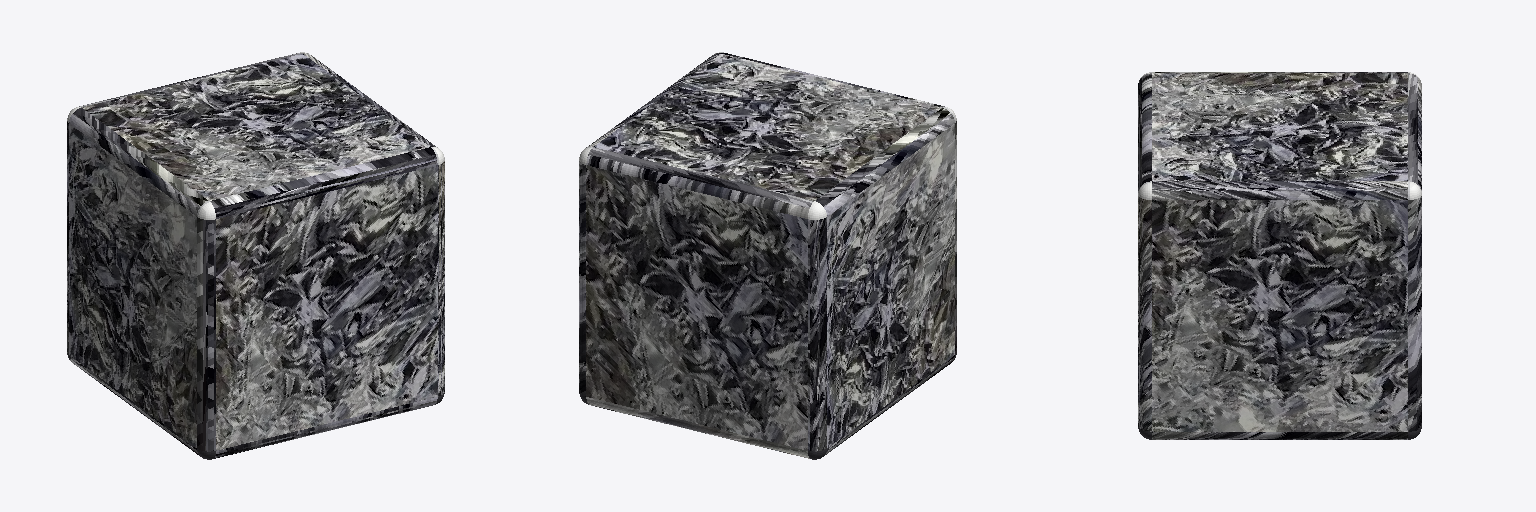
3 renders of one model, left to right at view 1: azimuth 30°, elevation 25°; view 2: azimuth 150°, elevation 25°; view 3: azimuth 270°, elevation 25°, orthographic.
Visible parts, largest first — view 1: Cube; view 2: Cube; view 3: Cube.
Part boxes in pixels (left/top/right/bottom): Cube: left=67, top=52, right=444, bottom=459; Cube: left=579, top=52, right=956, bottom=459; Cube: left=1138, top=72, right=1421, bottom=439.
Size of the model in its own units: 2 by 2 by 2.
Materials: 1 (1 with a texture image).